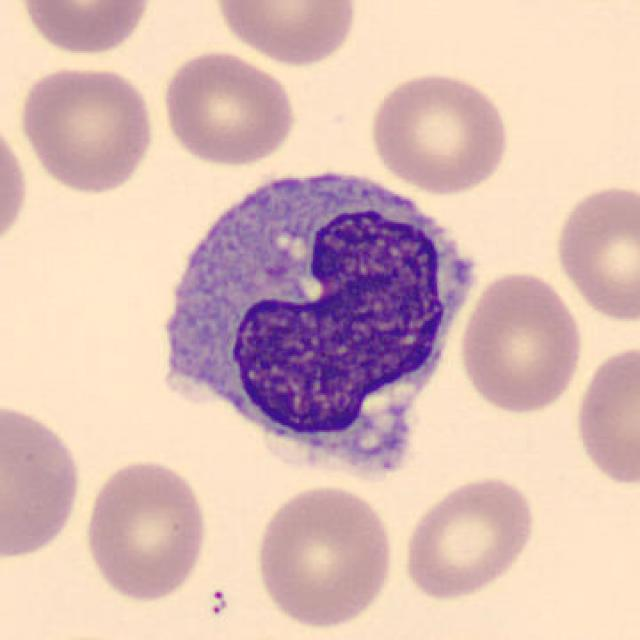Monocyte: (137, 147, 482, 496)
RBC: (251, 482, 398, 632), (80, 455, 212, 605), (455, 266, 587, 416), (14, 60, 158, 196), (364, 68, 514, 195), (398, 471, 539, 603), (158, 46, 299, 169), (0, 396, 85, 562), (549, 178, 640, 324), (570, 338, 640, 490), (210, 0, 361, 67), (10, 0, 156, 58), (0, 111, 32, 256)
